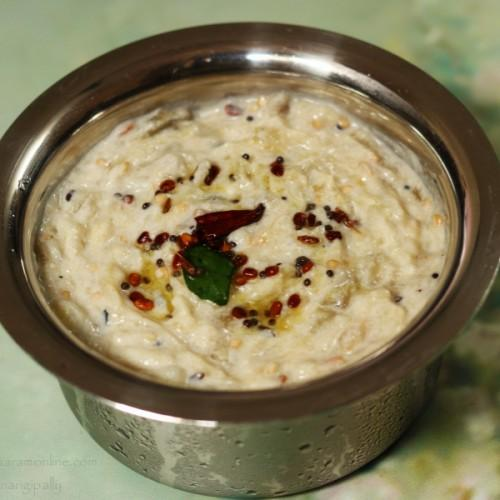Kheer: (39, 91, 455, 393)
